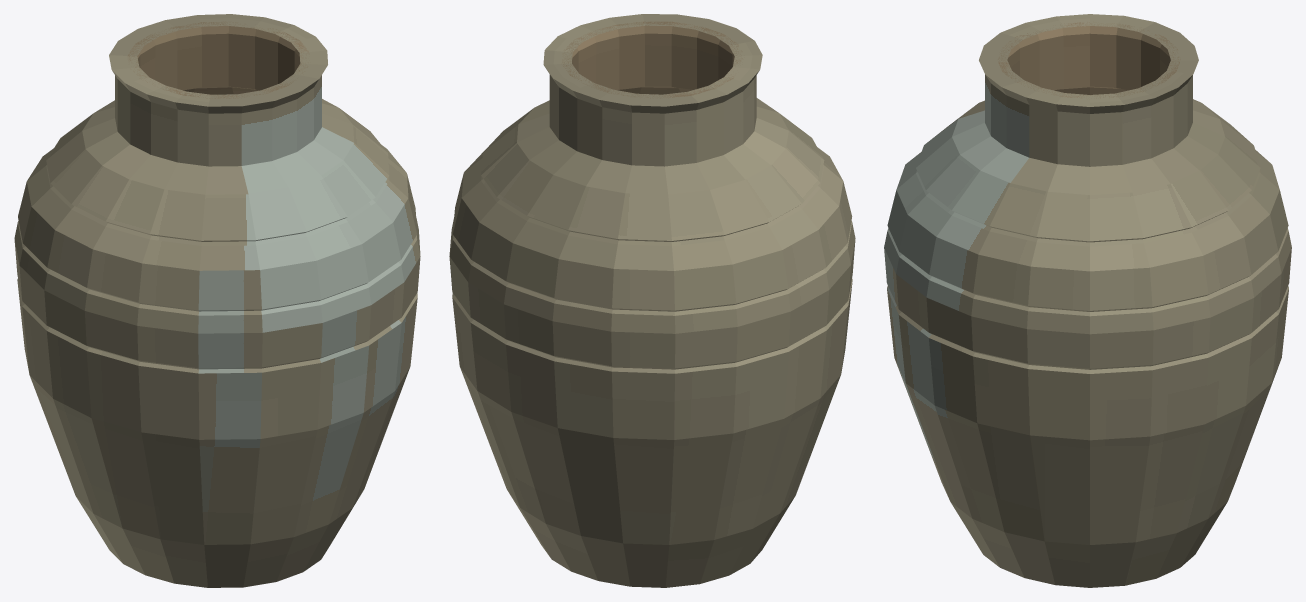
Rendered from antique-tokoname-sutra.glb.
3 views of the same model, side by side, from view 1: azimuth 30°, elevation 25°; view 2: azimuth 150°, elevation 25°; view 3: azimuth 270°, elevation 25° (orthographic).
Visible parts, largest first — view 1: antique-tokoname-sutra/vessel-2, antique-tokoname-sutra/vessel-3, antique-tokoname-sutra/vessel-14, antique-tokoname-sutra/vessel-10, antique-tokoname-sutra/vessel-6, antique-tokoname-sutra/vessel-11, antique-tokoname-sutra/vessel-16, antique-tokoname-sutra/vessel-15, antique-tokoname-sutra/vessel-1, antique-tokoname-sutra/vessel-7, antique-tokoname-sutra/vessel-22, antique-tokoname-sutra/vessel-19 (+7 smaller); view 2: antique-tokoname-sutra/vessel-2, antique-tokoname-sutra/vessel-3, antique-tokoname-sutra/vessel-14, antique-tokoname-sutra/vessel-10, antique-tokoname-sutra/vessel-6, antique-tokoname-sutra/vessel-11, antique-tokoname-sutra/vessel-16, antique-tokoname-sutra/vessel-15, antique-tokoname-sutra/vessel-1, antique-tokoname-sutra/vessel-7, antique-tokoname-sutra/vessel-22, antique-tokoname-sutra/vessel-19 (+7 smaller); view 3: antique-tokoname-sutra/vessel-2, antique-tokoname-sutra/vessel-3, antique-tokoname-sutra/vessel-14, antique-tokoname-sutra/vessel-10, antique-tokoname-sutra/vessel-6, antique-tokoname-sutra/vessel-11, antique-tokoname-sutra/vessel-16, antique-tokoname-sutra/vessel-15, antique-tokoname-sutra/vessel-1, antique-tokoname-sutra/vessel-7, antique-tokoname-sutra/vessel-22, antique-tokoname-sutra/vessel-19 (+7 smaller).
Part boxes in pixels (x1,y1,x2,y2): antique-tokoname-sutra/vessel-2: (29, 368, 409, 544); antique-tokoname-sutra/vessel-3: (17, 282, 417, 439); antique-tokoname-sutra/vessel-14: (46, 108, 389, 240); antique-tokoname-sutra/vessel-10: (18, 174, 417, 310); antique-tokoname-sutra/vessel-6: (14, 240, 420, 368); antique-tokoname-sutra/vessel-11: (27, 145, 408, 270); antique-tokoname-sutra/vessel-16: (115, 75, 321, 166); antique-tokoname-sutra/vessel-15: (82, 99, 354, 194); antique-tokoname-sutra/vessel-1: (76, 496, 358, 587); antique-tokoname-sutra/vessel-7: (14, 216, 420, 333); antique-tokoname-sutra/vessel-22: (138, 33, 300, 90); antique-tokoname-sutra/vessel-19: (119, 18, 317, 102); antique-tokoname-sutra/vessel-2: (460, 367, 840, 544); antique-tokoname-sutra/vessel-3: (452, 281, 852, 439); antique-tokoname-sutra/vessel-14: (481, 108, 824, 240); antique-tokoname-sutra/vessel-10: (453, 174, 852, 310); antique-tokoname-sutra/vessel-6: (449, 240, 855, 368); antique-tokoname-sutra/vessel-11: (461, 147, 843, 270); antique-tokoname-sutra/vessel-16: (549, 74, 756, 166); antique-tokoname-sutra/vessel-15: (517, 98, 788, 194); antique-tokoname-sutra/vessel-1: (507, 490, 794, 587); antique-tokoname-sutra/vessel-7: (449, 217, 855, 333); antique-tokoname-sutra/vessel-22: (572, 33, 734, 89); antique-tokoname-sutra/vessel-19: (553, 18, 752, 102); antique-tokoname-sutra/vessel-2: (895, 360, 1279, 544); antique-tokoname-sutra/vessel-3: (887, 289, 1288, 440); antique-tokoname-sutra/vessel-14: (916, 103, 1260, 241); antique-tokoname-sutra/vessel-10: (887, 190, 1288, 310); antique-tokoname-sutra/vessel-6: (884, 248, 1291, 368); antique-tokoname-sutra/vessel-11: (896, 150, 1279, 271); antique-tokoname-sutra/vessel-16: (985, 74, 1192, 166); antique-tokoname-sutra/vessel-15: (952, 99, 1224, 194); antique-tokoname-sutra/vessel-1: (951, 502, 1227, 587); antique-tokoname-sutra/vessel-7: (884, 231, 1291, 334); antique-tokoname-sutra/vessel-22: (1007, 33, 1170, 90); antique-tokoname-sutra/vessel-19: (989, 18, 1188, 102).
Bounding box in the file's own units: 0.5625 × 0.7304 × 0.5625.
Materials: 3 (3 with a texture image).
